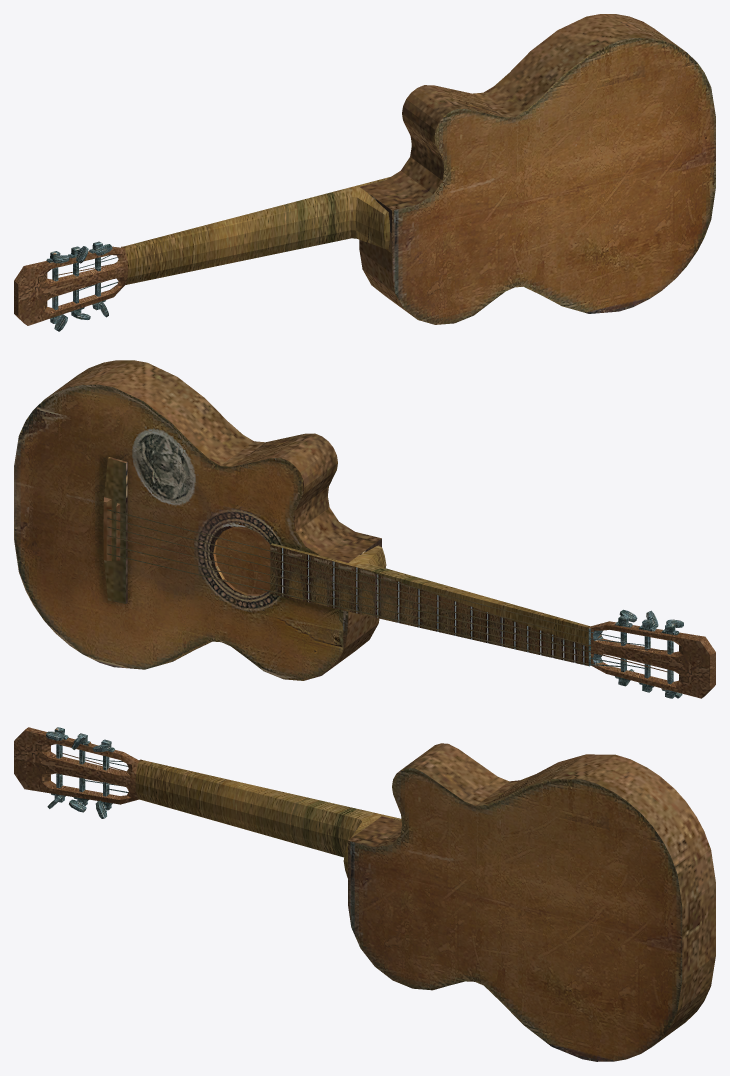
File: guitar.obj
3 views of the same model, one above another, from view 1: azimuth 30°, elevation 25°; view 2: azimuth 150°, elevation 25°; view 3: azimuth 330°, elevation 25° (orthographic). The views are drawn at different scales.
Visible parts, largest first — view 1: Guitar; view 2: Guitar; view 3: Guitar.
Part boxes in pixels (left/top/right/bottom): Guitar: left=14, top=14, right=715, bottom=331; Guitar: left=14, top=360, right=715, bottom=698; Guitar: left=14, top=727, right=715, bottom=1061.
Bounding box in the file's own units: 9.7 × 3.73 × 0.9167.
